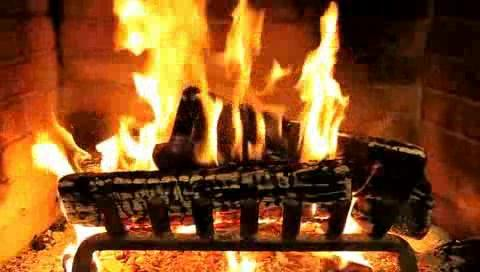fire: (95, 1, 347, 171)
